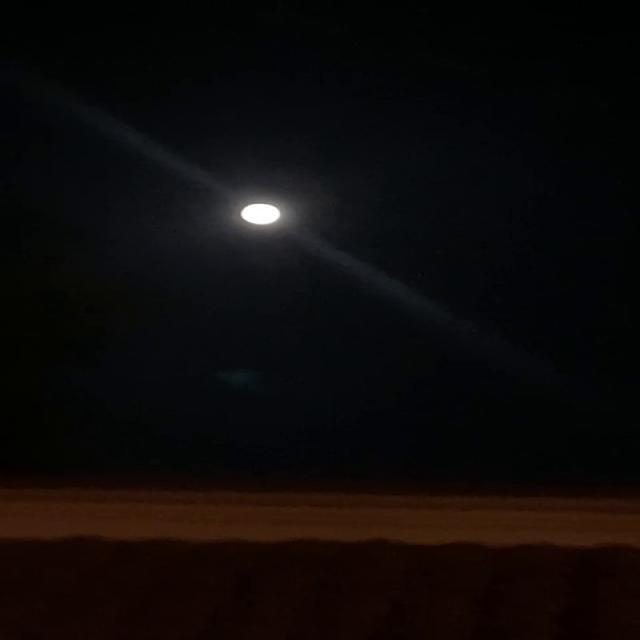moon: (232, 198, 286, 228)
